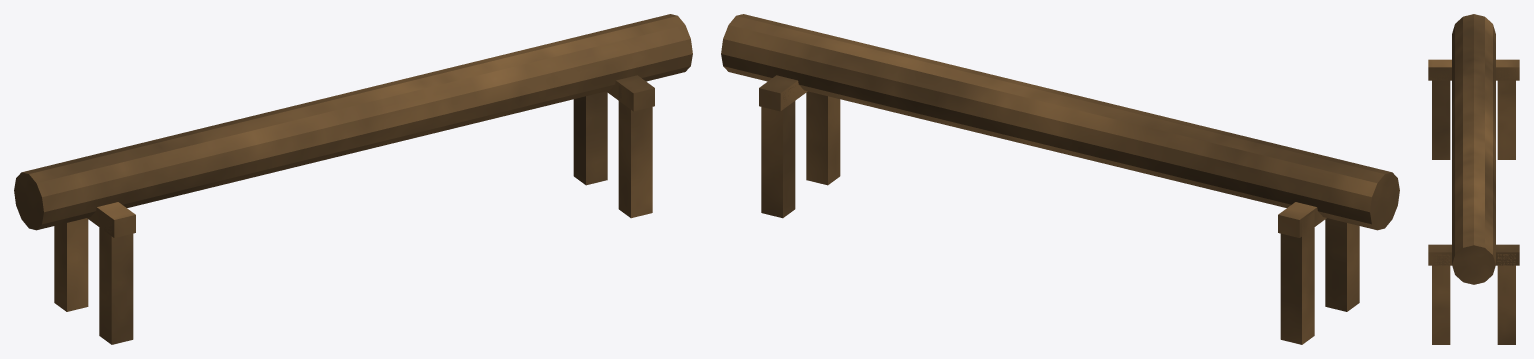
Rendered from balance_log.glb.
3 views of the same model, side by side, from view 1: azimuth 30°, elevation 25°; view 2: azimuth 150°, elevation 25°; view 3: azimuth 270°, elevation 25° (orthographic). The views are drawn at different scales.
Parts seen in each view (by area): view 1: balance_log; view 2: balance_log; view 3: balance_log.
Part boxes in pixels (<box>): balance_log: <box>14,14,692,344</box>; balance_log: <box>721,14,1399,344</box>; balance_log: <box>1428,14,1519,344</box>.
Bounding box in the file's own units: 3 × 0.72 × 0.5001.
Materials: 1 (1 with a texture image).
